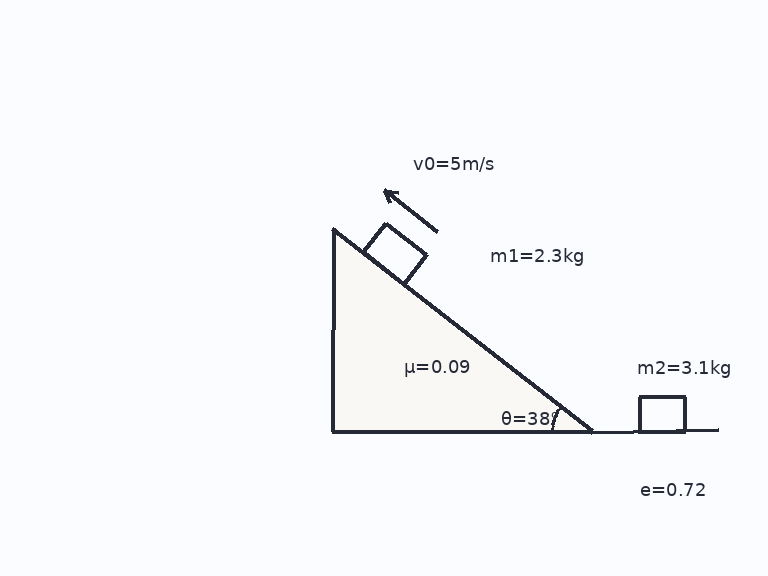block: (361, 221, 429, 286), (637, 395, 687, 433)
ramp: (330, 226, 594, 433)
